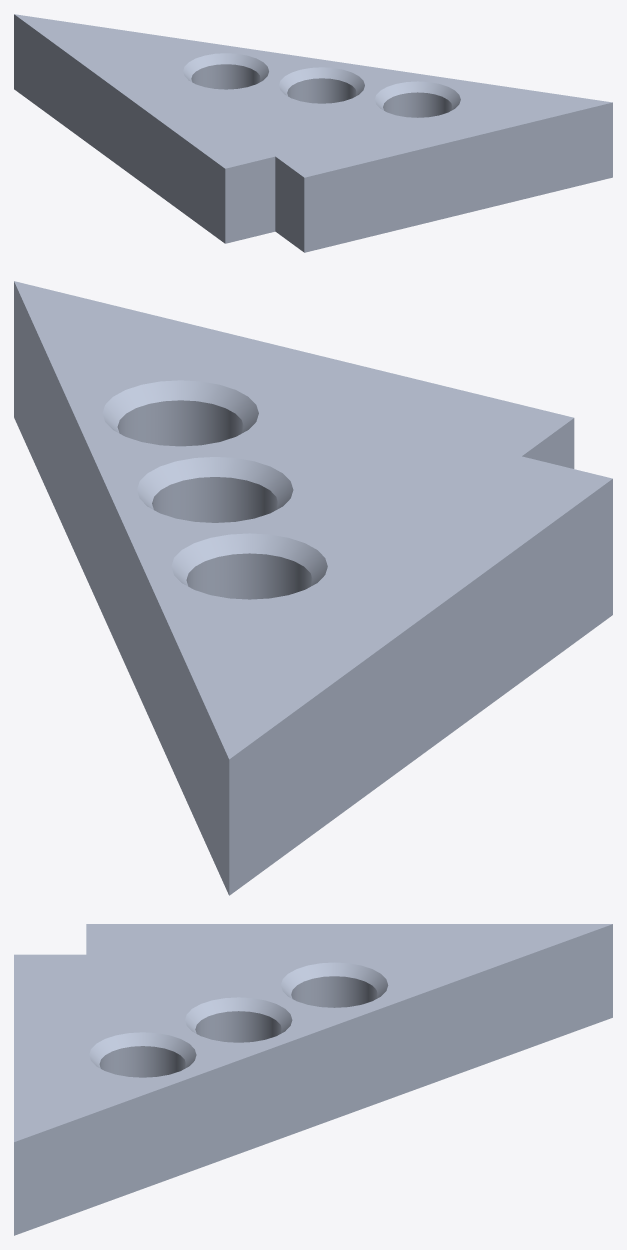
Rendered from Support_Bracket_-_Web.gltf.
3 views of the same model, one above another, from view 1: azimuth 30°, elevation 25°; view 2: azimuth 150°, elevation 25°; view 3: azimuth 270°, elevation 25° (orthographic). The views are drawn at different scales.
Parts seen in each view (by area): view 1: Support Bracket - Web; view 2: Support Bracket - Web; view 3: Support Bracket - Web.
Boxes of the visible parts, x1,y1,x2,y2 form: Support Bracket - Web: [14, 14, 612, 252]; Support Bracket - Web: [14, 281, 612, 895]; Support Bracket - Web: [14, 924, 612, 1235].
Size of the model in its own units: 0.0318 by 0.00635 by 0.0368.
